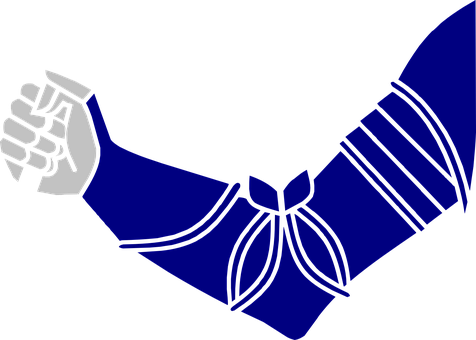fist: (4, 73, 107, 205)
